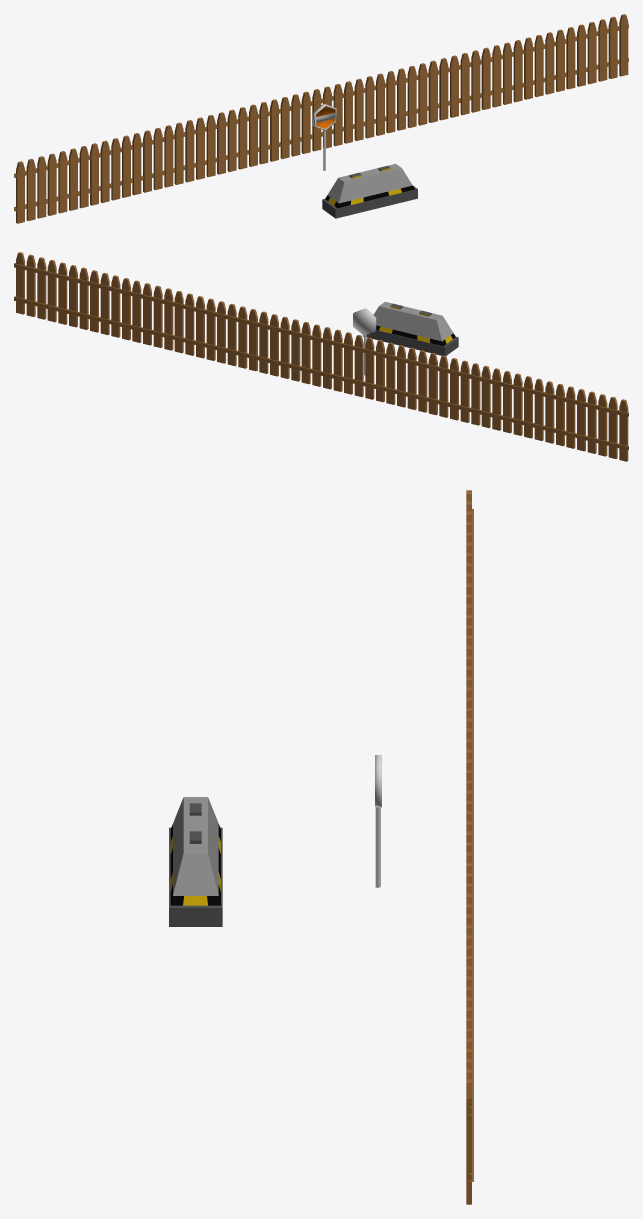
File: FenceProps.fbx
3 renders of one model, top to bottom at view 1: azimuth 30°, elevation 25°; view 2: azimuth 150°, elevation 25°; view 3: azimuth 270°, elevation 25°, orthographic. The views are drawn at different scales.
Parts seen in each view (by area): view 1: Cube.001, Cube, Cylinder; view 2: Cube.001, Cube, Cylinder; view 3: Cube, Cube.001.
Part boxes in pixels (bbox=[...]): Cube.001: bbox=[14, 14, 628, 223]; Cube: bbox=[322, 163, 417, 218]; Cylinder: bbox=[313, 103, 336, 170]; Cube.001: bbox=[14, 252, 628, 461]; Cube: bbox=[363, 301, 458, 355]; Cylinder: bbox=[353, 308, 376, 375]; Cube: bbox=[169, 797, 222, 926]; Cube.001: bbox=[466, 490, 473, 1204].
Bounding box in the file's own units: 2593 × 267 × 558.
